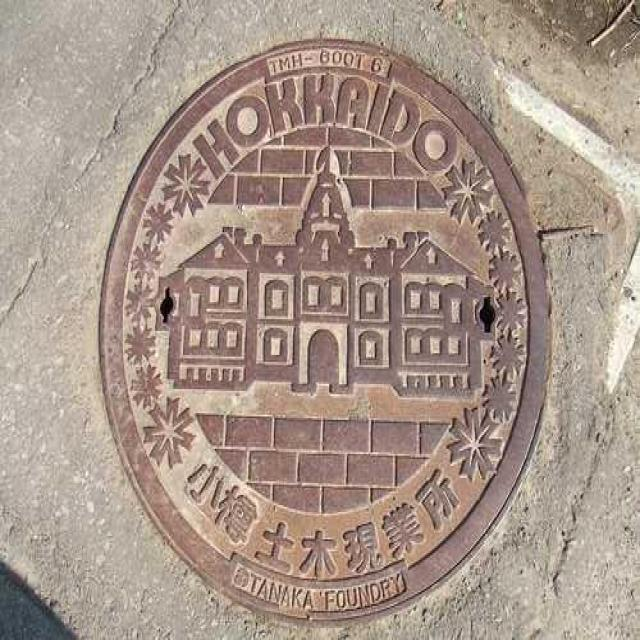manhole: (100, 42, 545, 620)
